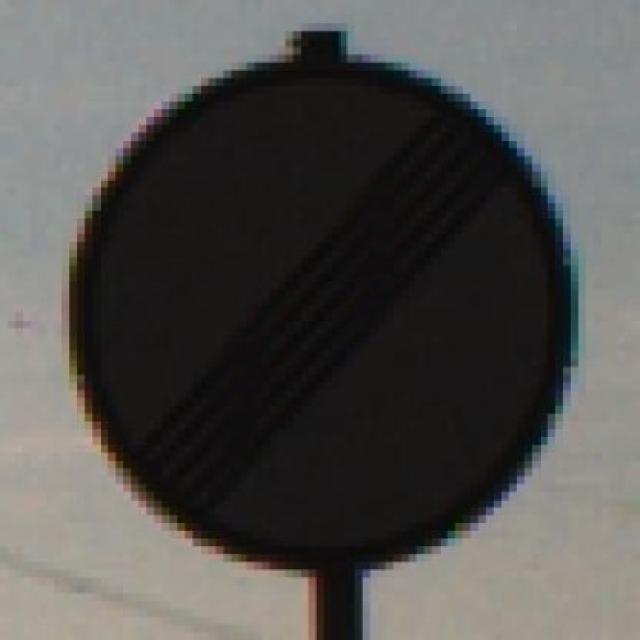End of all speed and passing limits: (65, 25, 598, 563)
